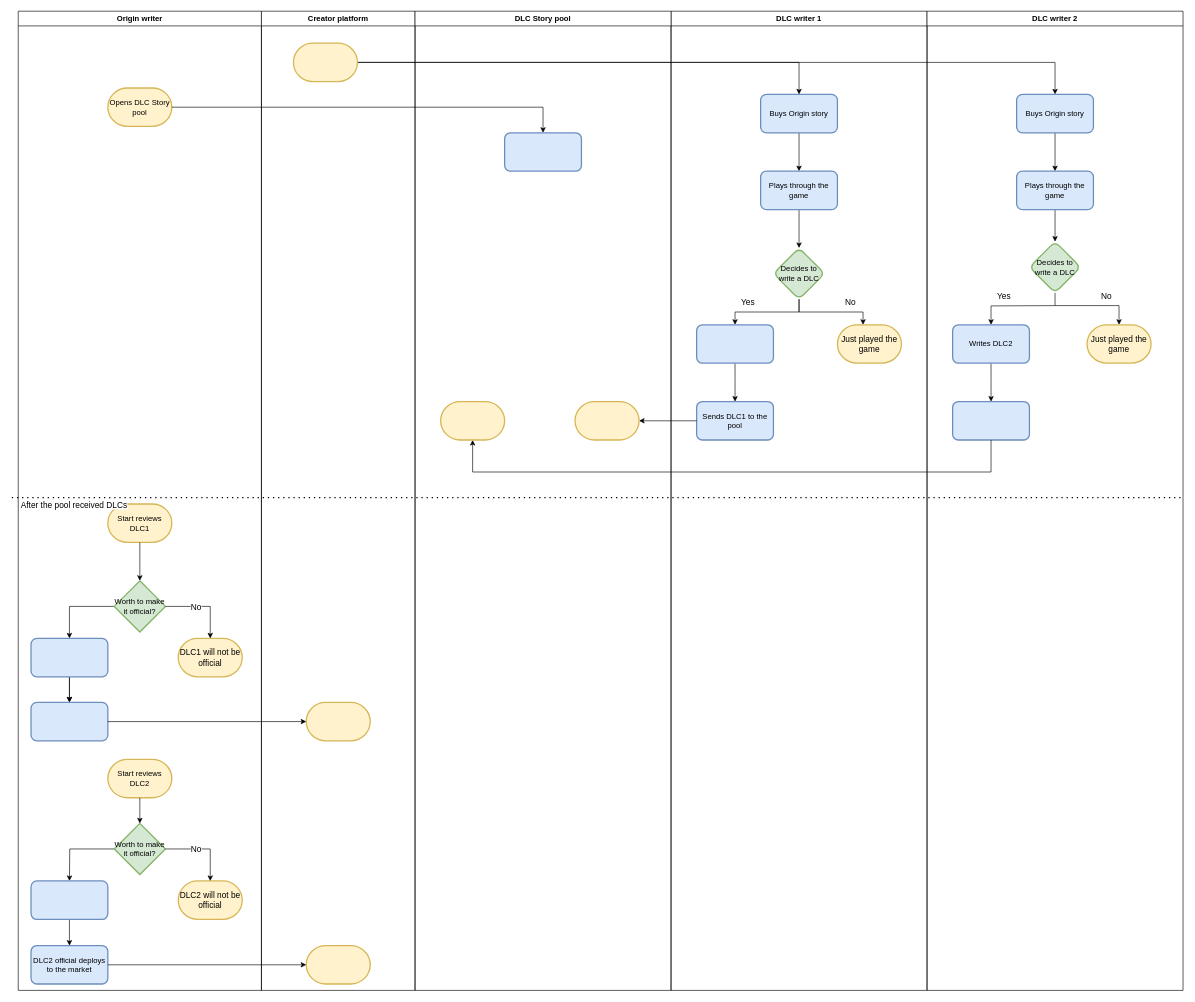
Image size: 1195x1002. Some labels were removed from this diagram. The centre of each missing label's shape, as x and y in pixels:
DLC1 is available: the point at 338,721
DLC1 official deploys to the market: the point at 69,721
DLC1 will be official: the point at 69,657
DLC2 is available: the point at 338,964
DLC2 will be official: the point at 69,900
Origin story has been released to the market: the point at 325,62
Pool is open: the point at 543,152
Pool received DLC1: the point at 606,420
Pool received DLC2: the point at 472,420
Sends DLC2 to the pool: the point at 991,420
Writes DLC1: the point at 735,344
